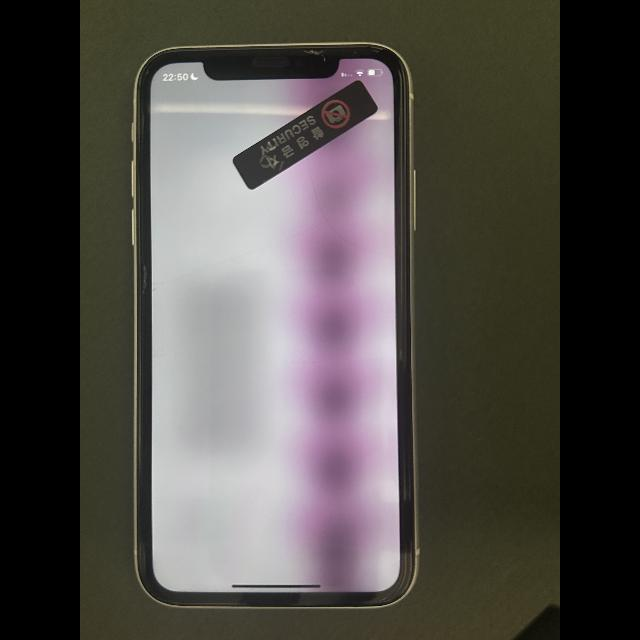lens: (295, 58, 304, 67)
phone: (133, 41, 420, 609)
sticker: (232, 80, 378, 190)
